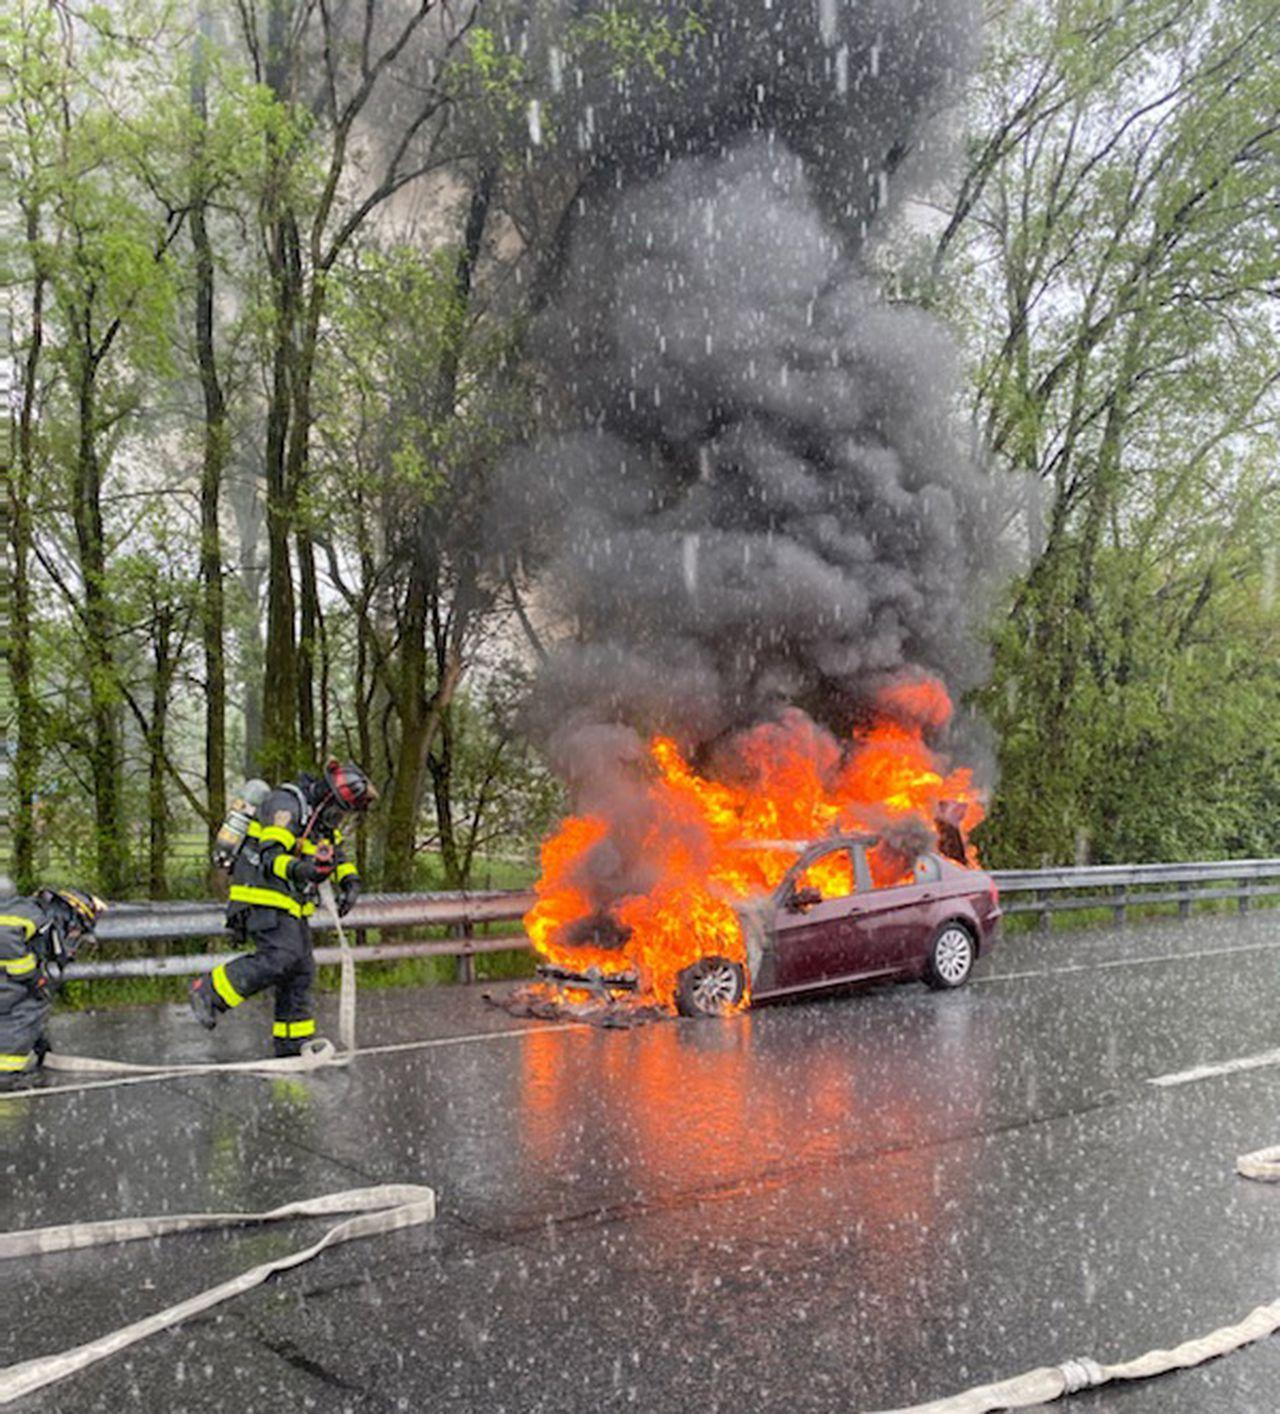Fire: (531, 675, 990, 1022)
